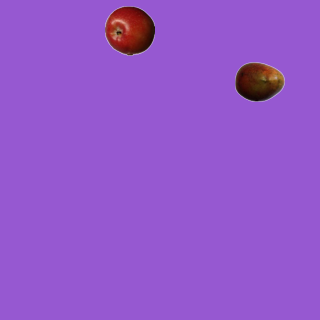Apple Braeburn: (104, 5, 154, 55)
Mango Red: (234, 56, 284, 106)
